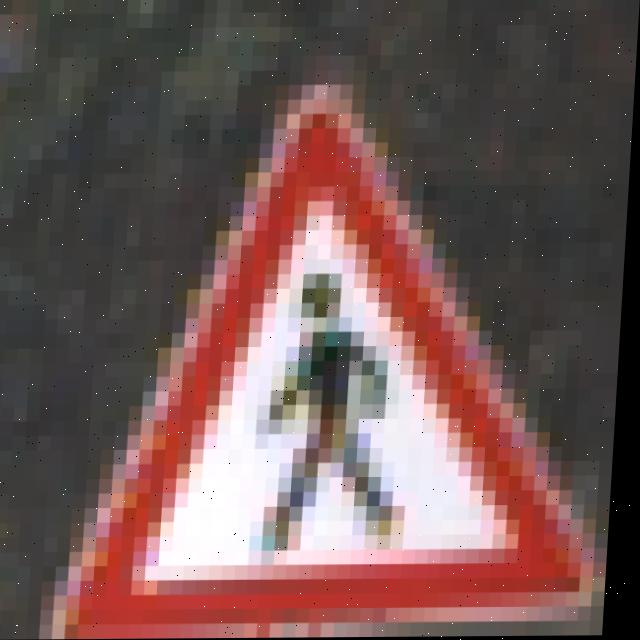crosswalk: (73, 102, 578, 613)
